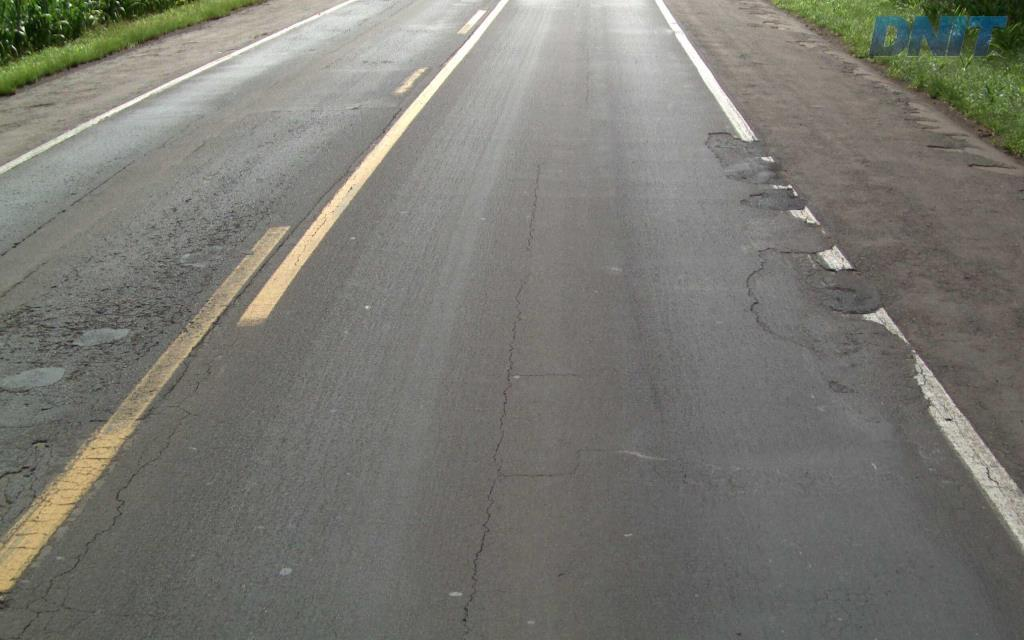crack: (53, 493, 125, 578)
pothole: (743, 241, 873, 360), (703, 127, 761, 173), (748, 189, 770, 200)
